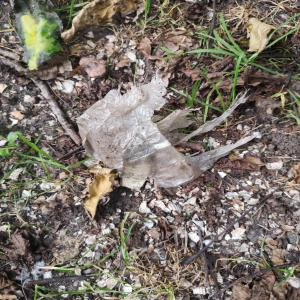Trash: (74, 71, 267, 195)
